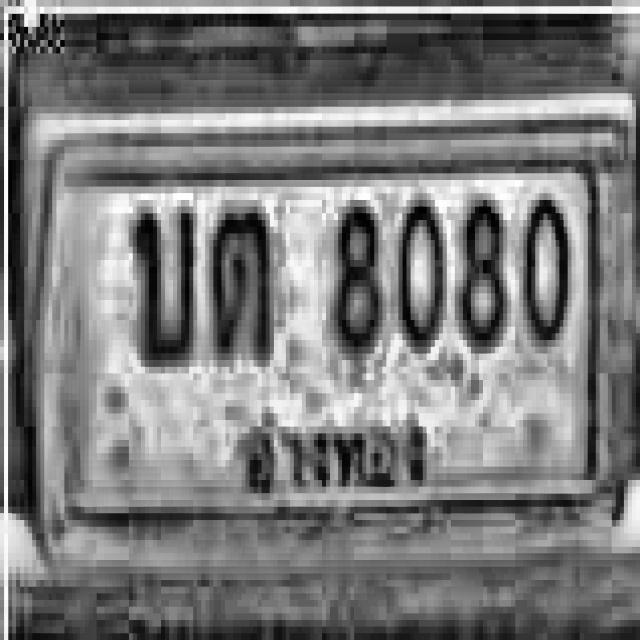license-plate: (31, 98, 640, 580)
